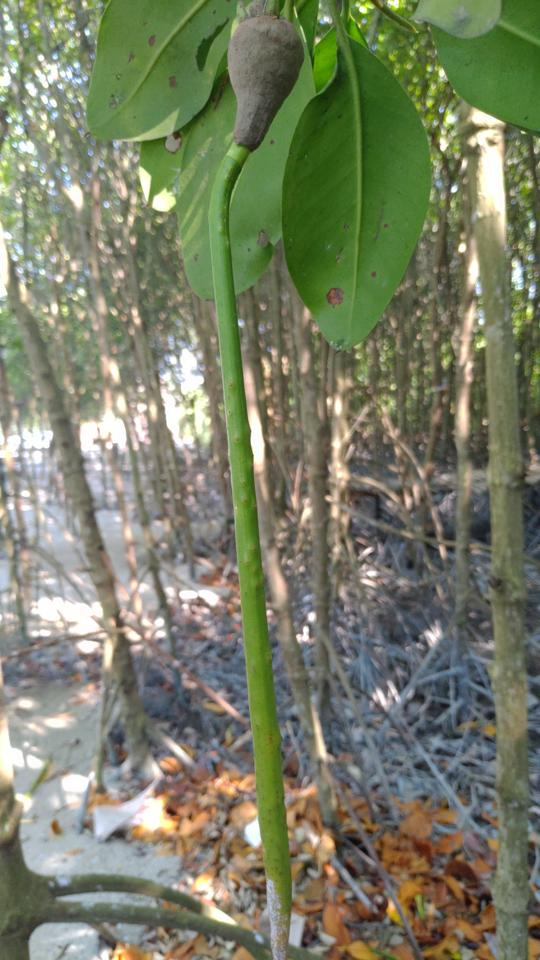setengah matang: (198, 1, 335, 947)
